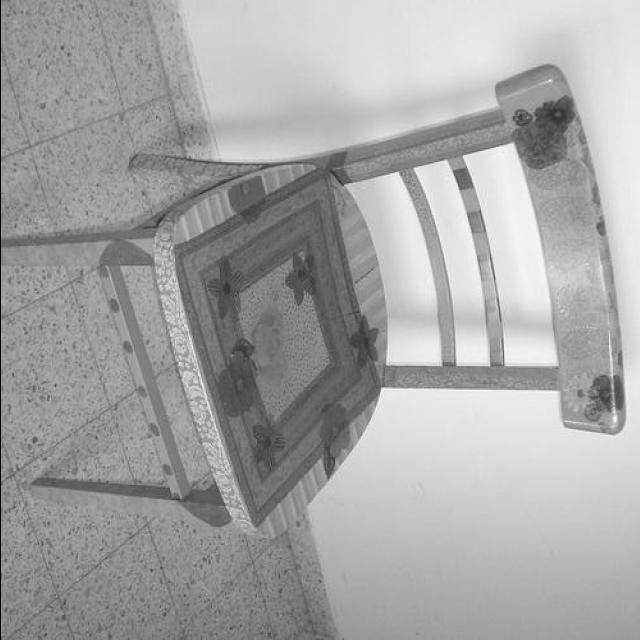chair: (8, 58, 624, 542)
